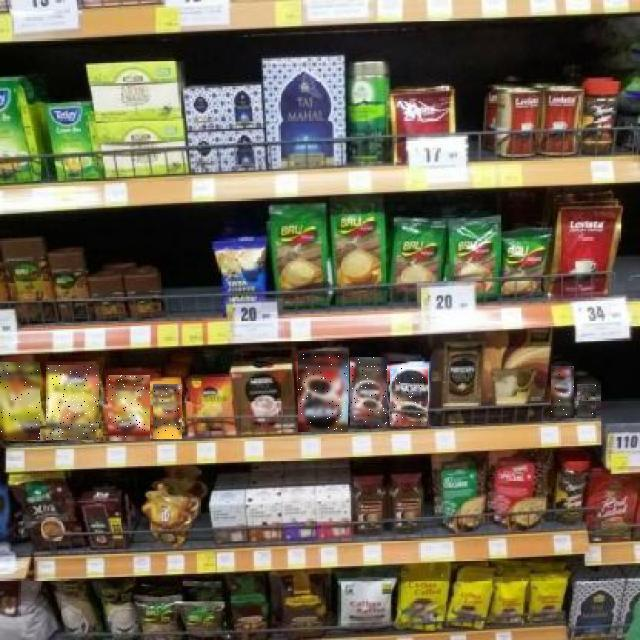Coffee: (298, 351, 348, 432), (46, 365, 99, 440), (0, 362, 40, 440), (108, 376, 150, 440), (350, 358, 387, 428), (390, 367, 428, 427), (153, 384, 182, 439), (551, 367, 574, 419), (578, 384, 600, 418)
